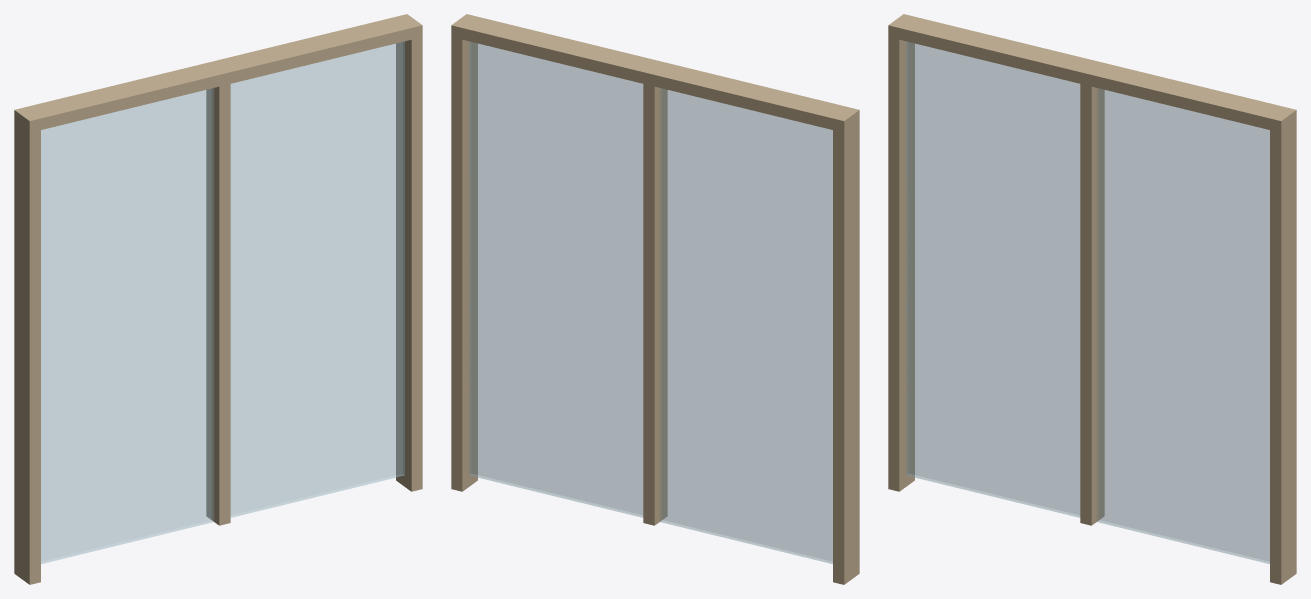
3 views of the same model, side by side, from view 1: azimuth 30°, elevation 25°; view 2: azimuth 150°, elevation 25°; view 3: azimuth 330°, elevation 25° (orthographic).
Parts seen in each view (by area): view 1: glass, frame (×4); view 2: glass, frame (×4); view 3: glass, frame (×4).
Part boxes in pixels (x1,y1,x2,y2): glass: [41, 41, 404, 563]; frame (×4): [14, 14, 422, 584]; glass: [469, 41, 832, 563]; frame (×4): [451, 14, 859, 584]; glass: [906, 41, 1269, 563]; frame (×4): [888, 14, 1296, 584].
Size of the model in its own units: 1.76 by 1.99 by 0.12.
